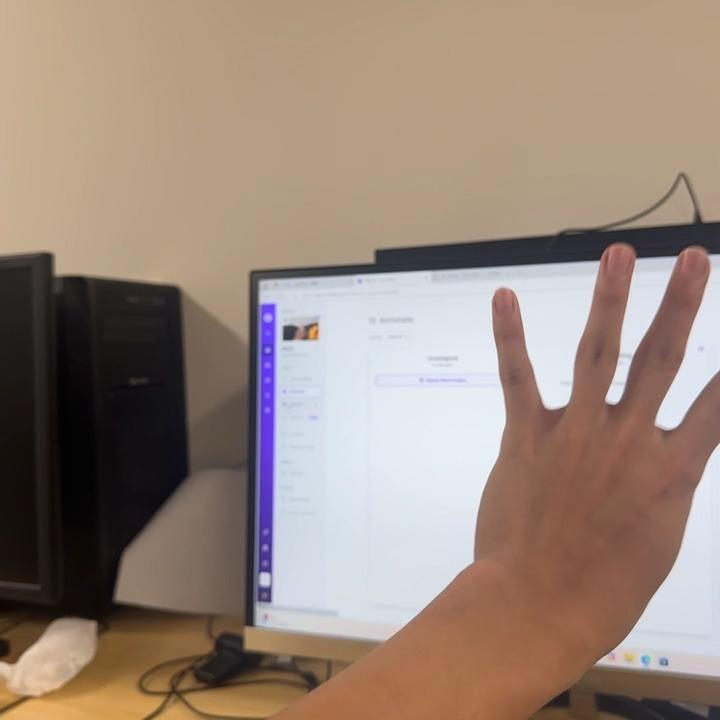without_gloves: (450, 215, 720, 660)
